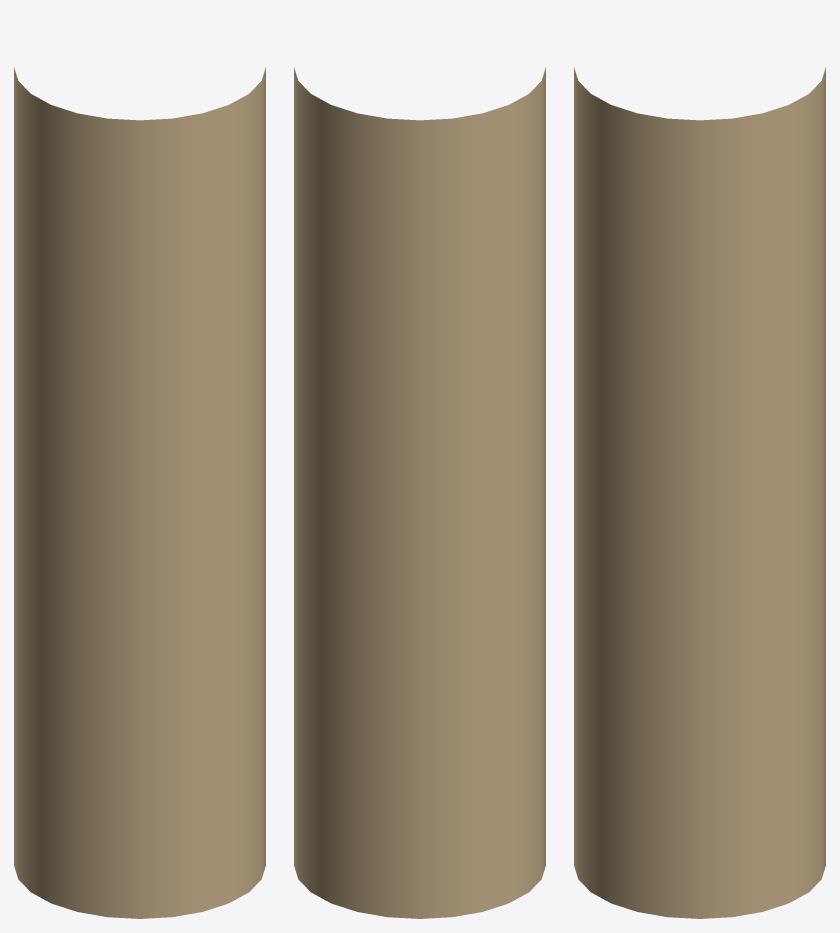
Rendered from modelo.gltf.
3 views of the same model, side by side, from view 1: azimuth 30°, elevation 25°; view 2: azimuth 150°, elevation 25°; view 3: azimuth 270°, elevation 25° (orthographic).
Visible parts, largest first — view 1: cavilha; view 2: cavilha; view 3: cavilha.
Boxes of the visible parts, <box> form: cavilha: <box>14,67,265,918</box>; cavilha: <box>294,67,545,918</box>; cavilha: <box>574,67,825,918</box>.
Bounding box in the file's own units: 0.01 × 0.035 × 0.01.
